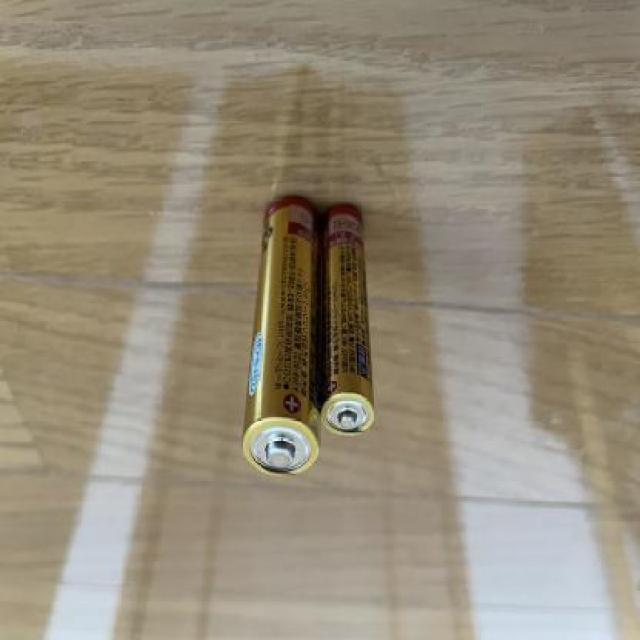hazardous waste: (240, 195, 326, 480), (314, 198, 380, 437)
